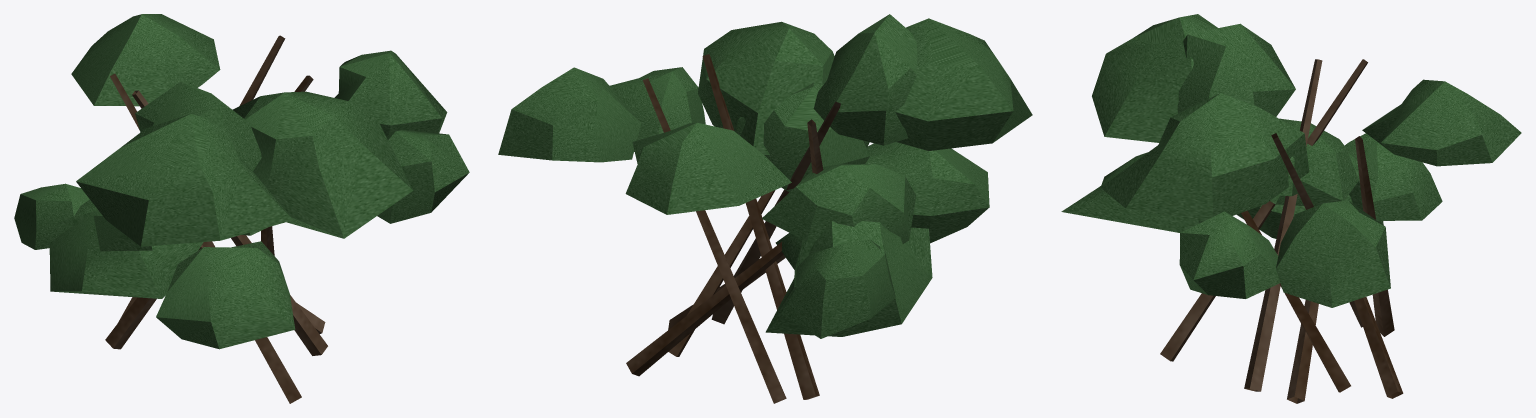
The model's file is thicket_0.glb.
The picture shows the model from 3 angles, left to right: view 1: azimuth 30°, elevation 25°; view 2: azimuth 150°, elevation 25°; view 3: azimuth 270°, elevation 25°; orthographic projection. The views are drawn at different scales.
Parts seen in each view (by area): view 1: thicket_0; view 2: thicket_0; view 3: thicket_0.
Boxes of the visible parts, x1,y1,x2,y2 form: thicket_0: (14,14,469,403); thicket_0: (498,14,1032,403); thicket_0: (1061,14,1521,403).
Size of the model in its own units: 3.43 by 2.38 by 3.27.
Materials: 2 (2 with a texture image).
